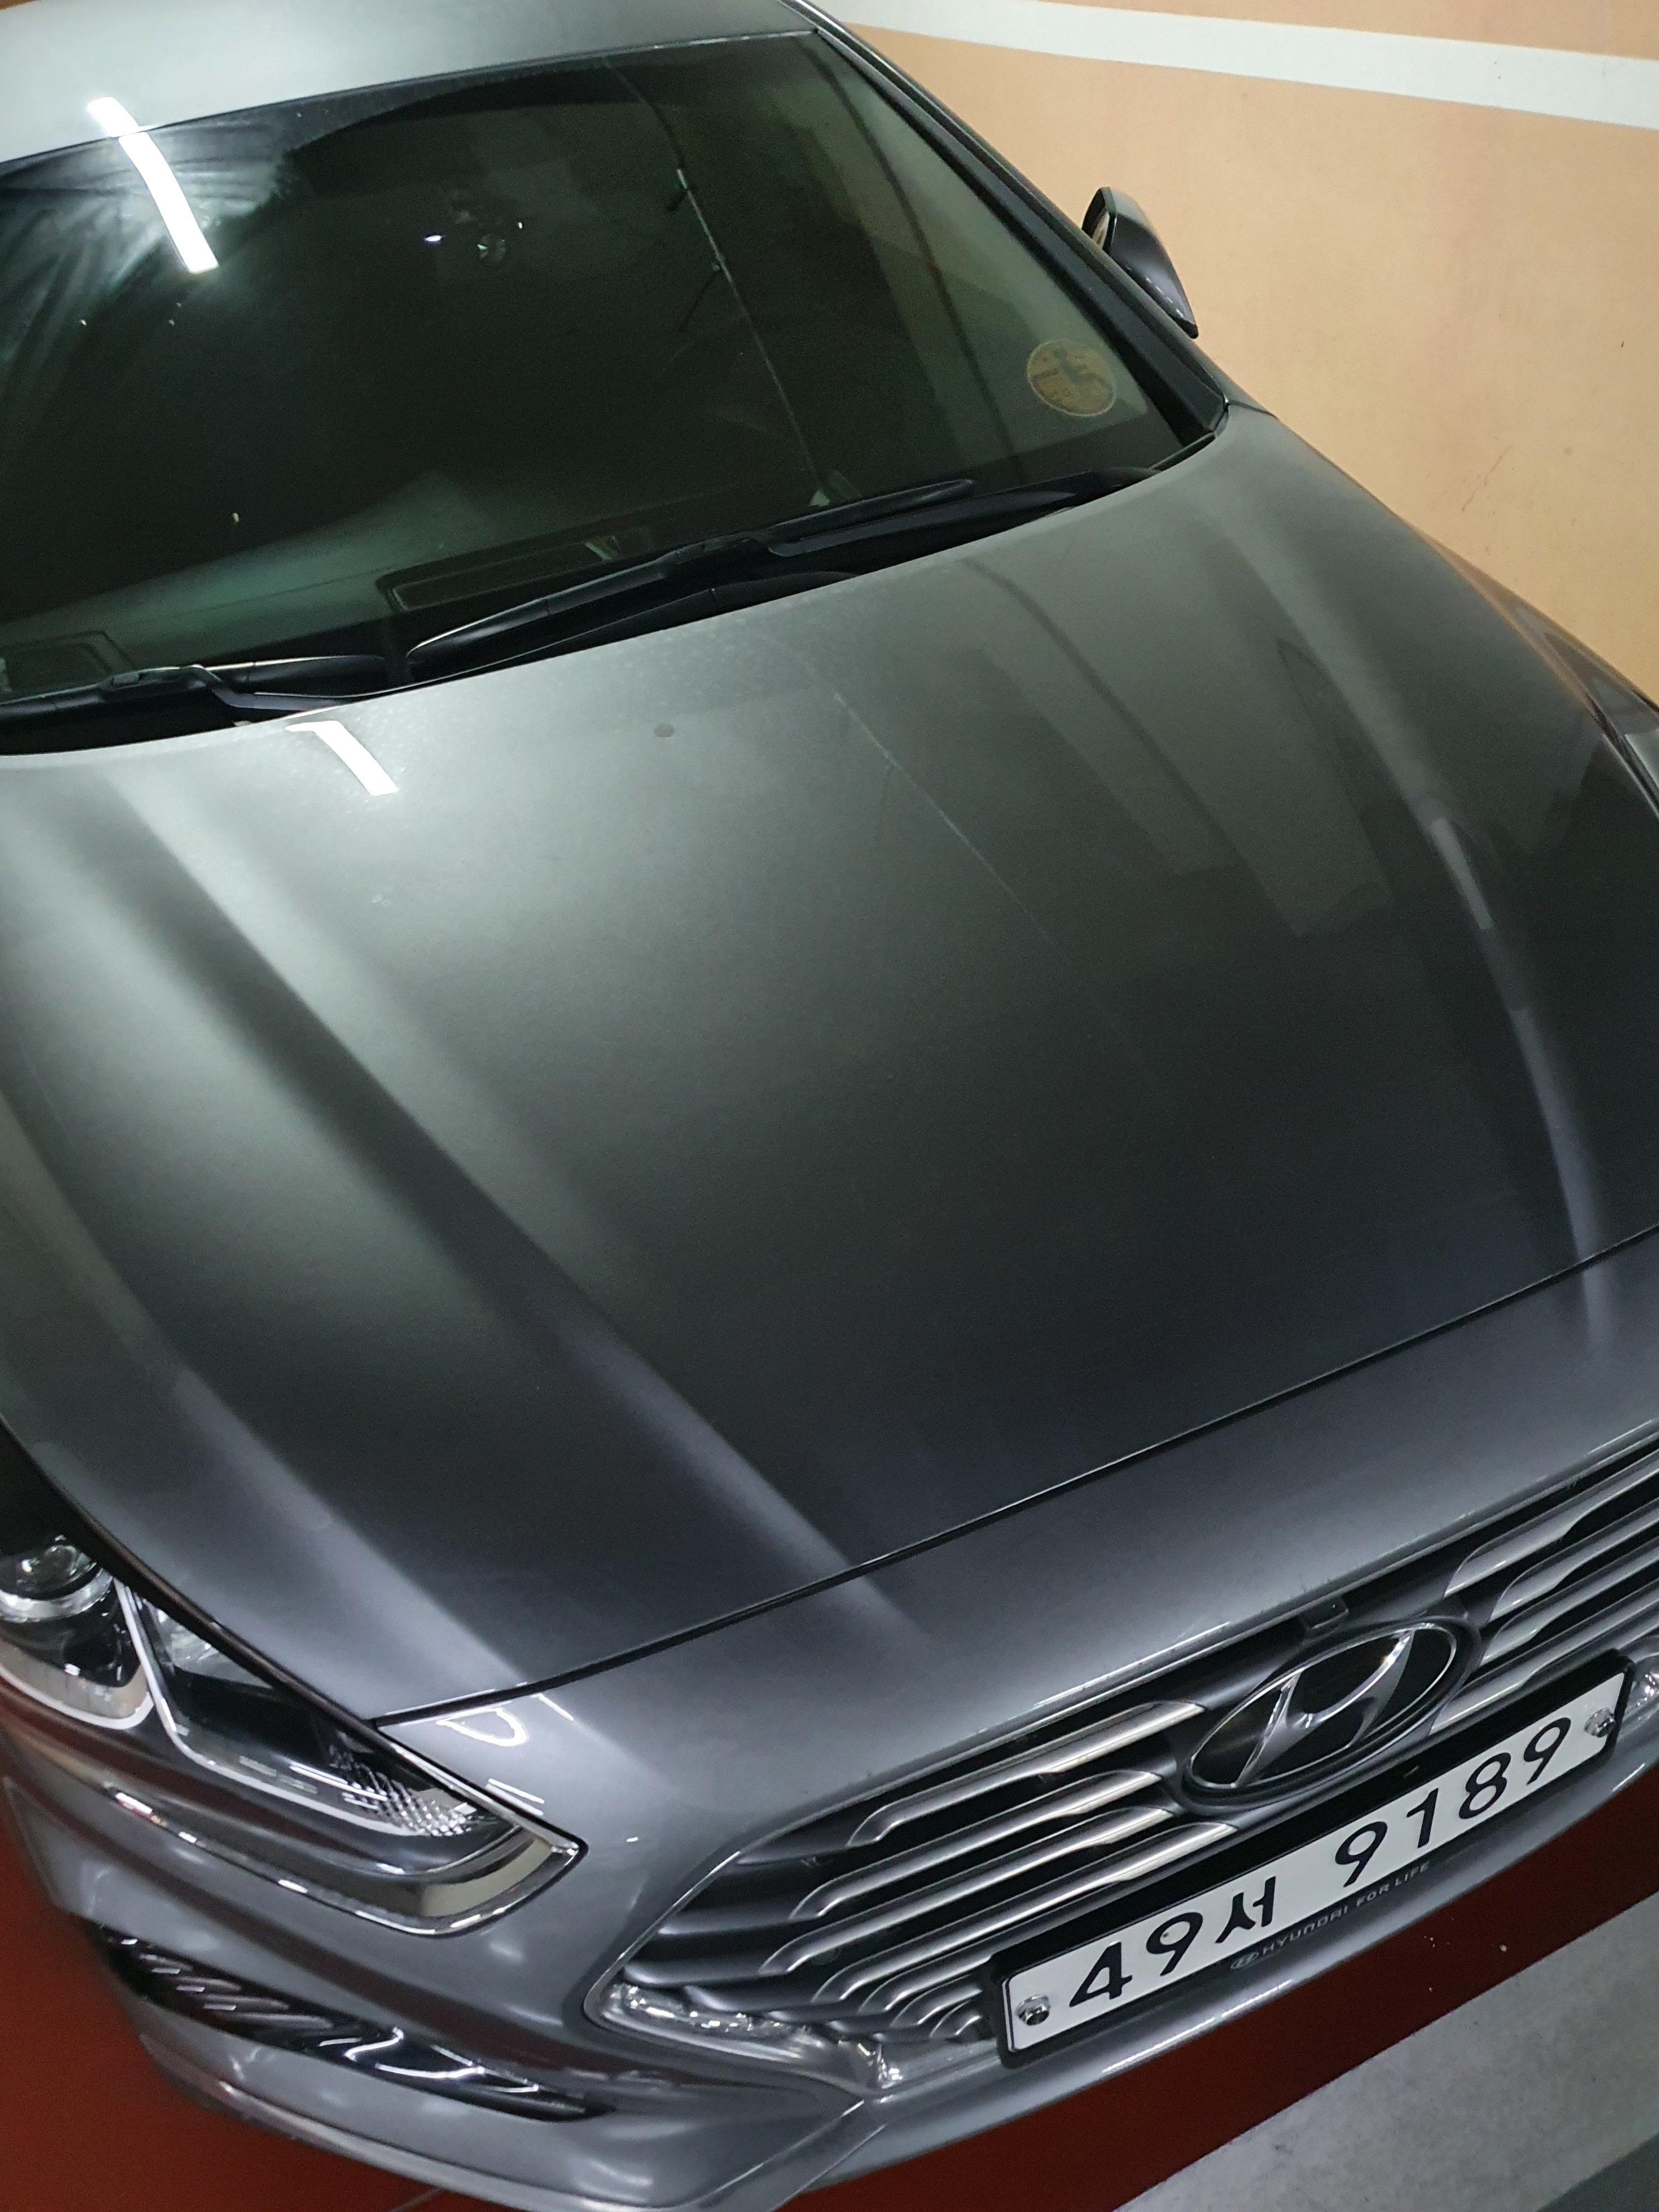disabled_parking: (1016, 329, 1134, 428)
